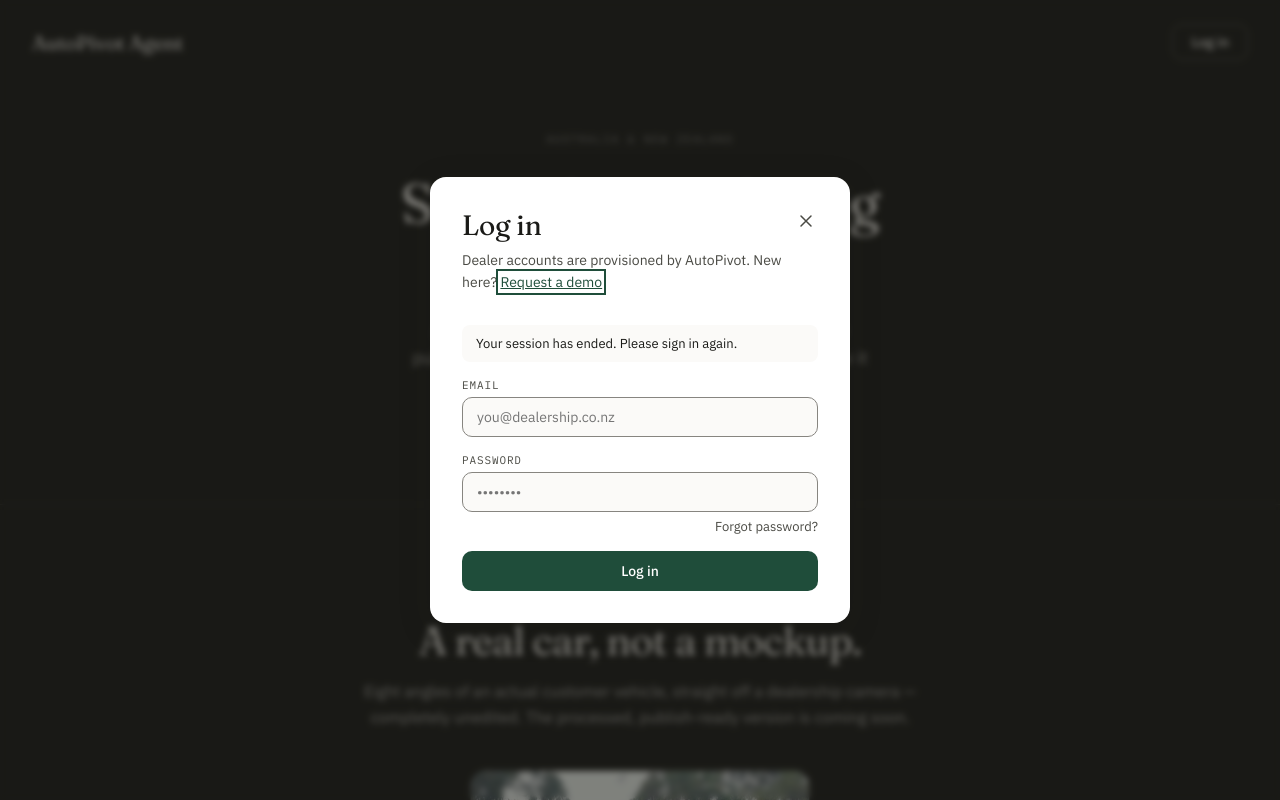
Test: A session the server stops accepting › puts the user back where they were once they have signed in again
This screenshot has width=1280, height=800.
In the field with placeholder "you@dealership.co.nz": [640, 418] box x1=462 y1=398 x2=818 y2=438, type "pat@first.example.com"
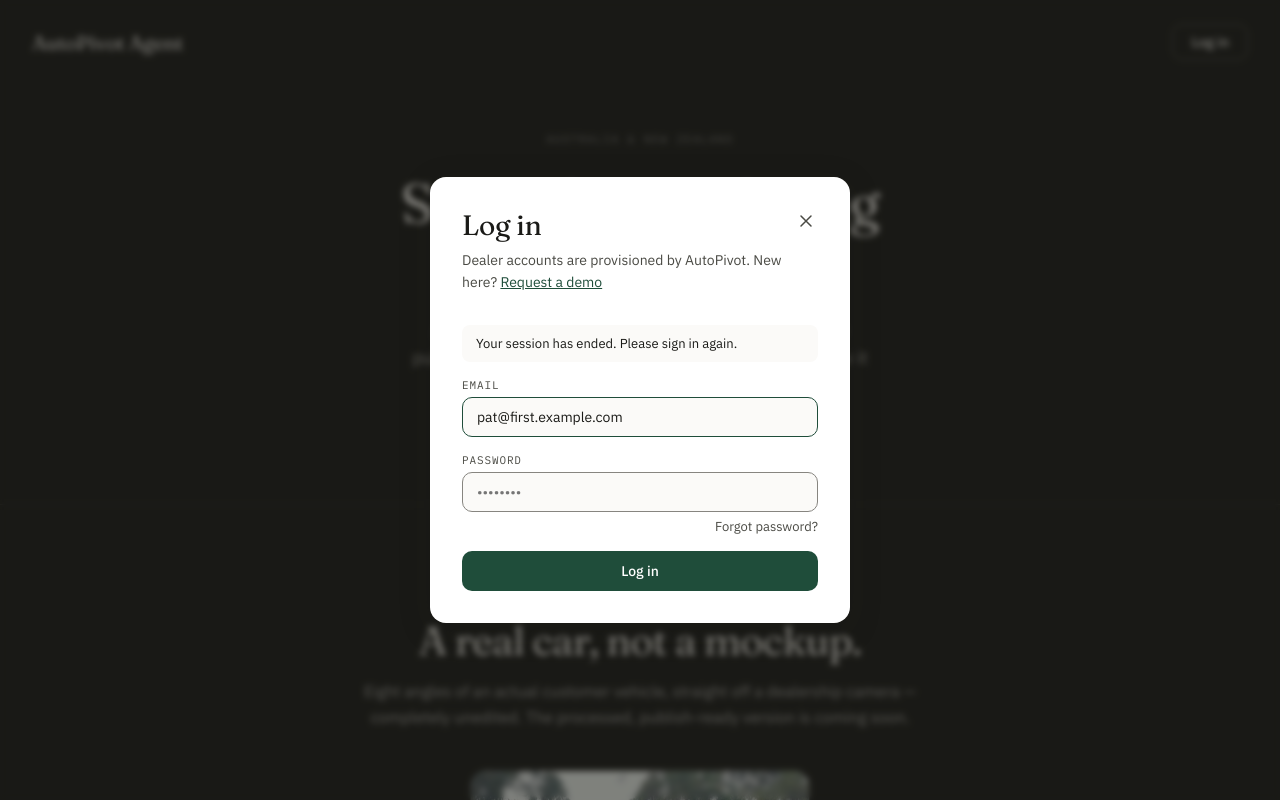
In the password field with placeholder "••••••••": [640, 492] box x1=462 y1=472 x2=818 y2=512, type "Pat-password-123"
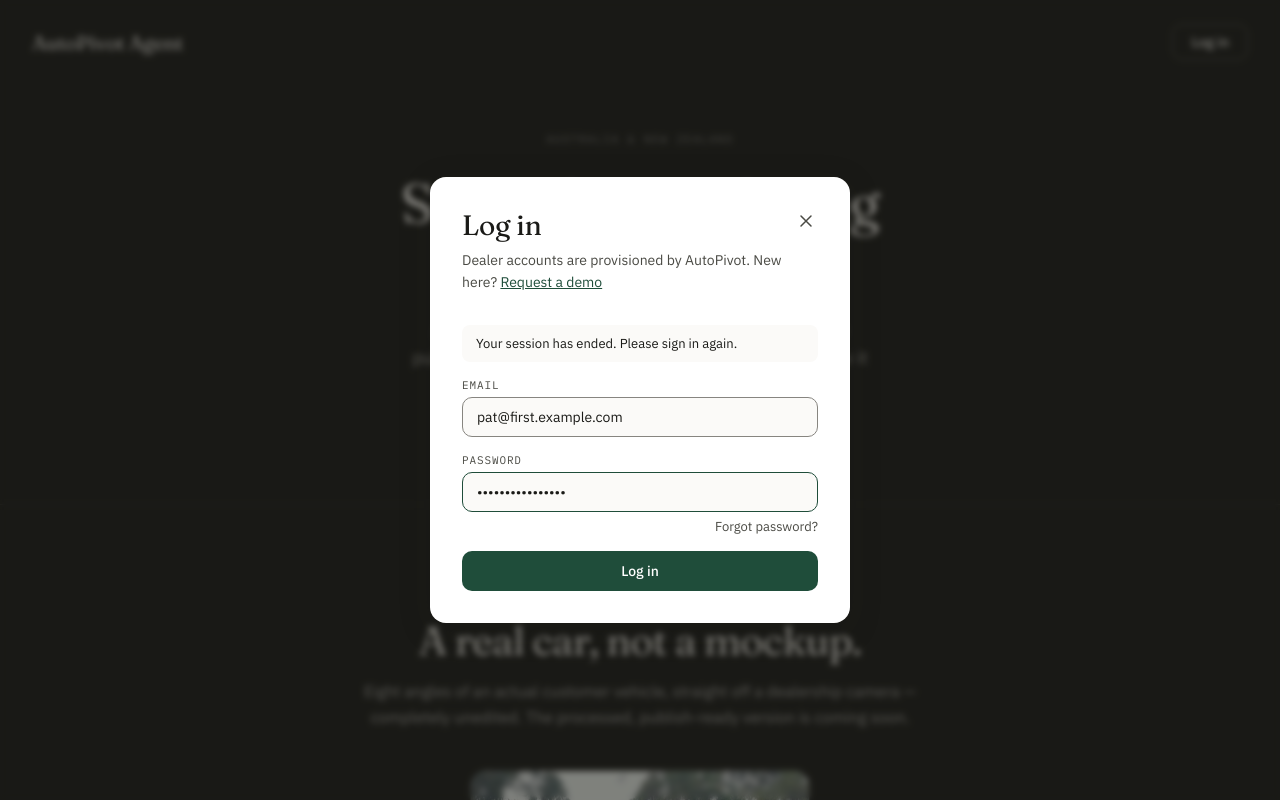
Click the button "Log in": [640, 572] box x1=462 y1=552 x2=818 y2=592
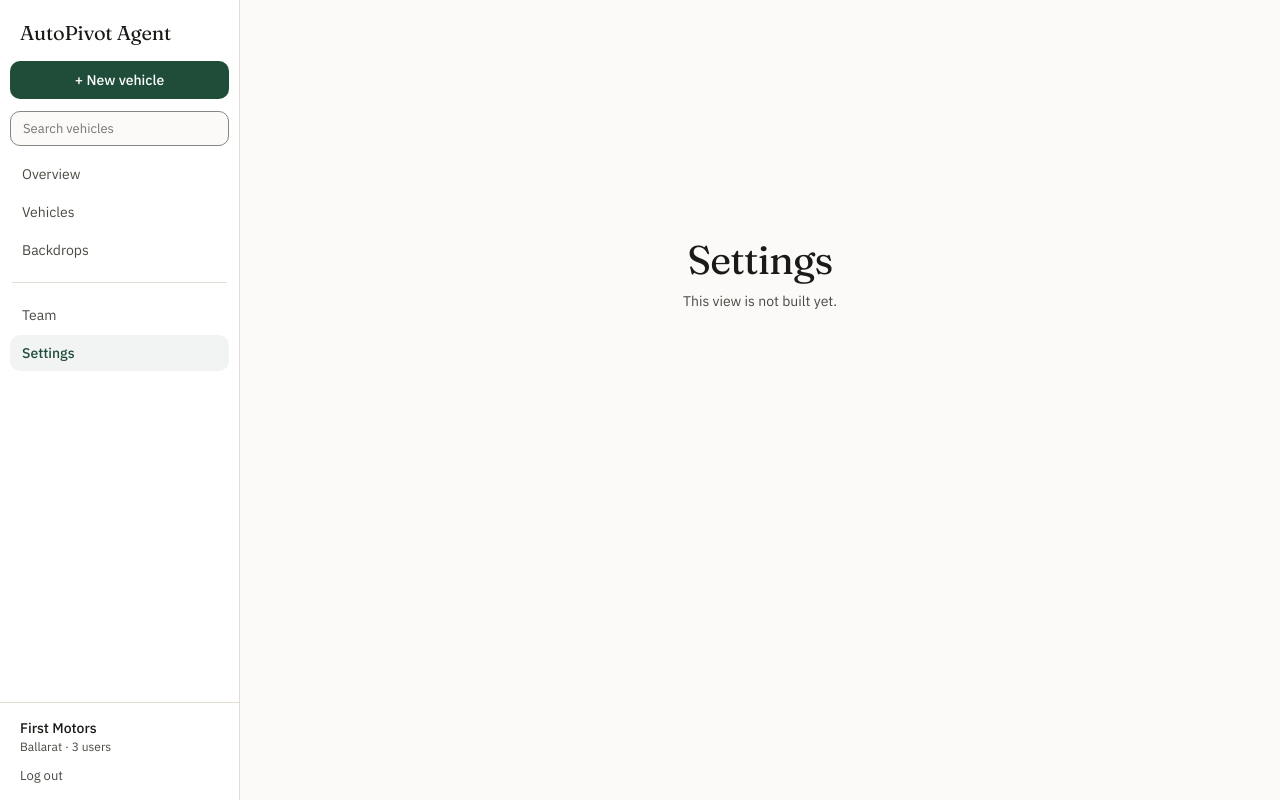
Result: the text "This view is not built yet." is shown at x1=683 y1=292 x2=837 y2=310
Result: the dialog is gone
